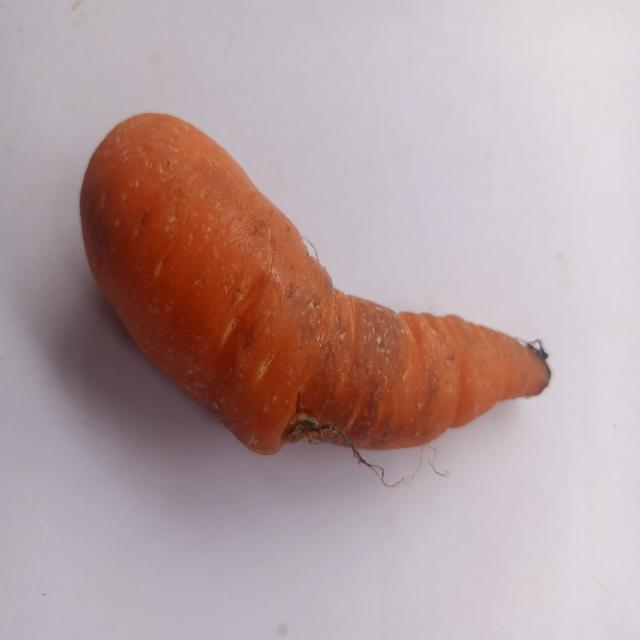Carrot: (62, 84, 564, 488)
